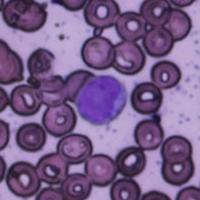L: (75, 72, 128, 125)
